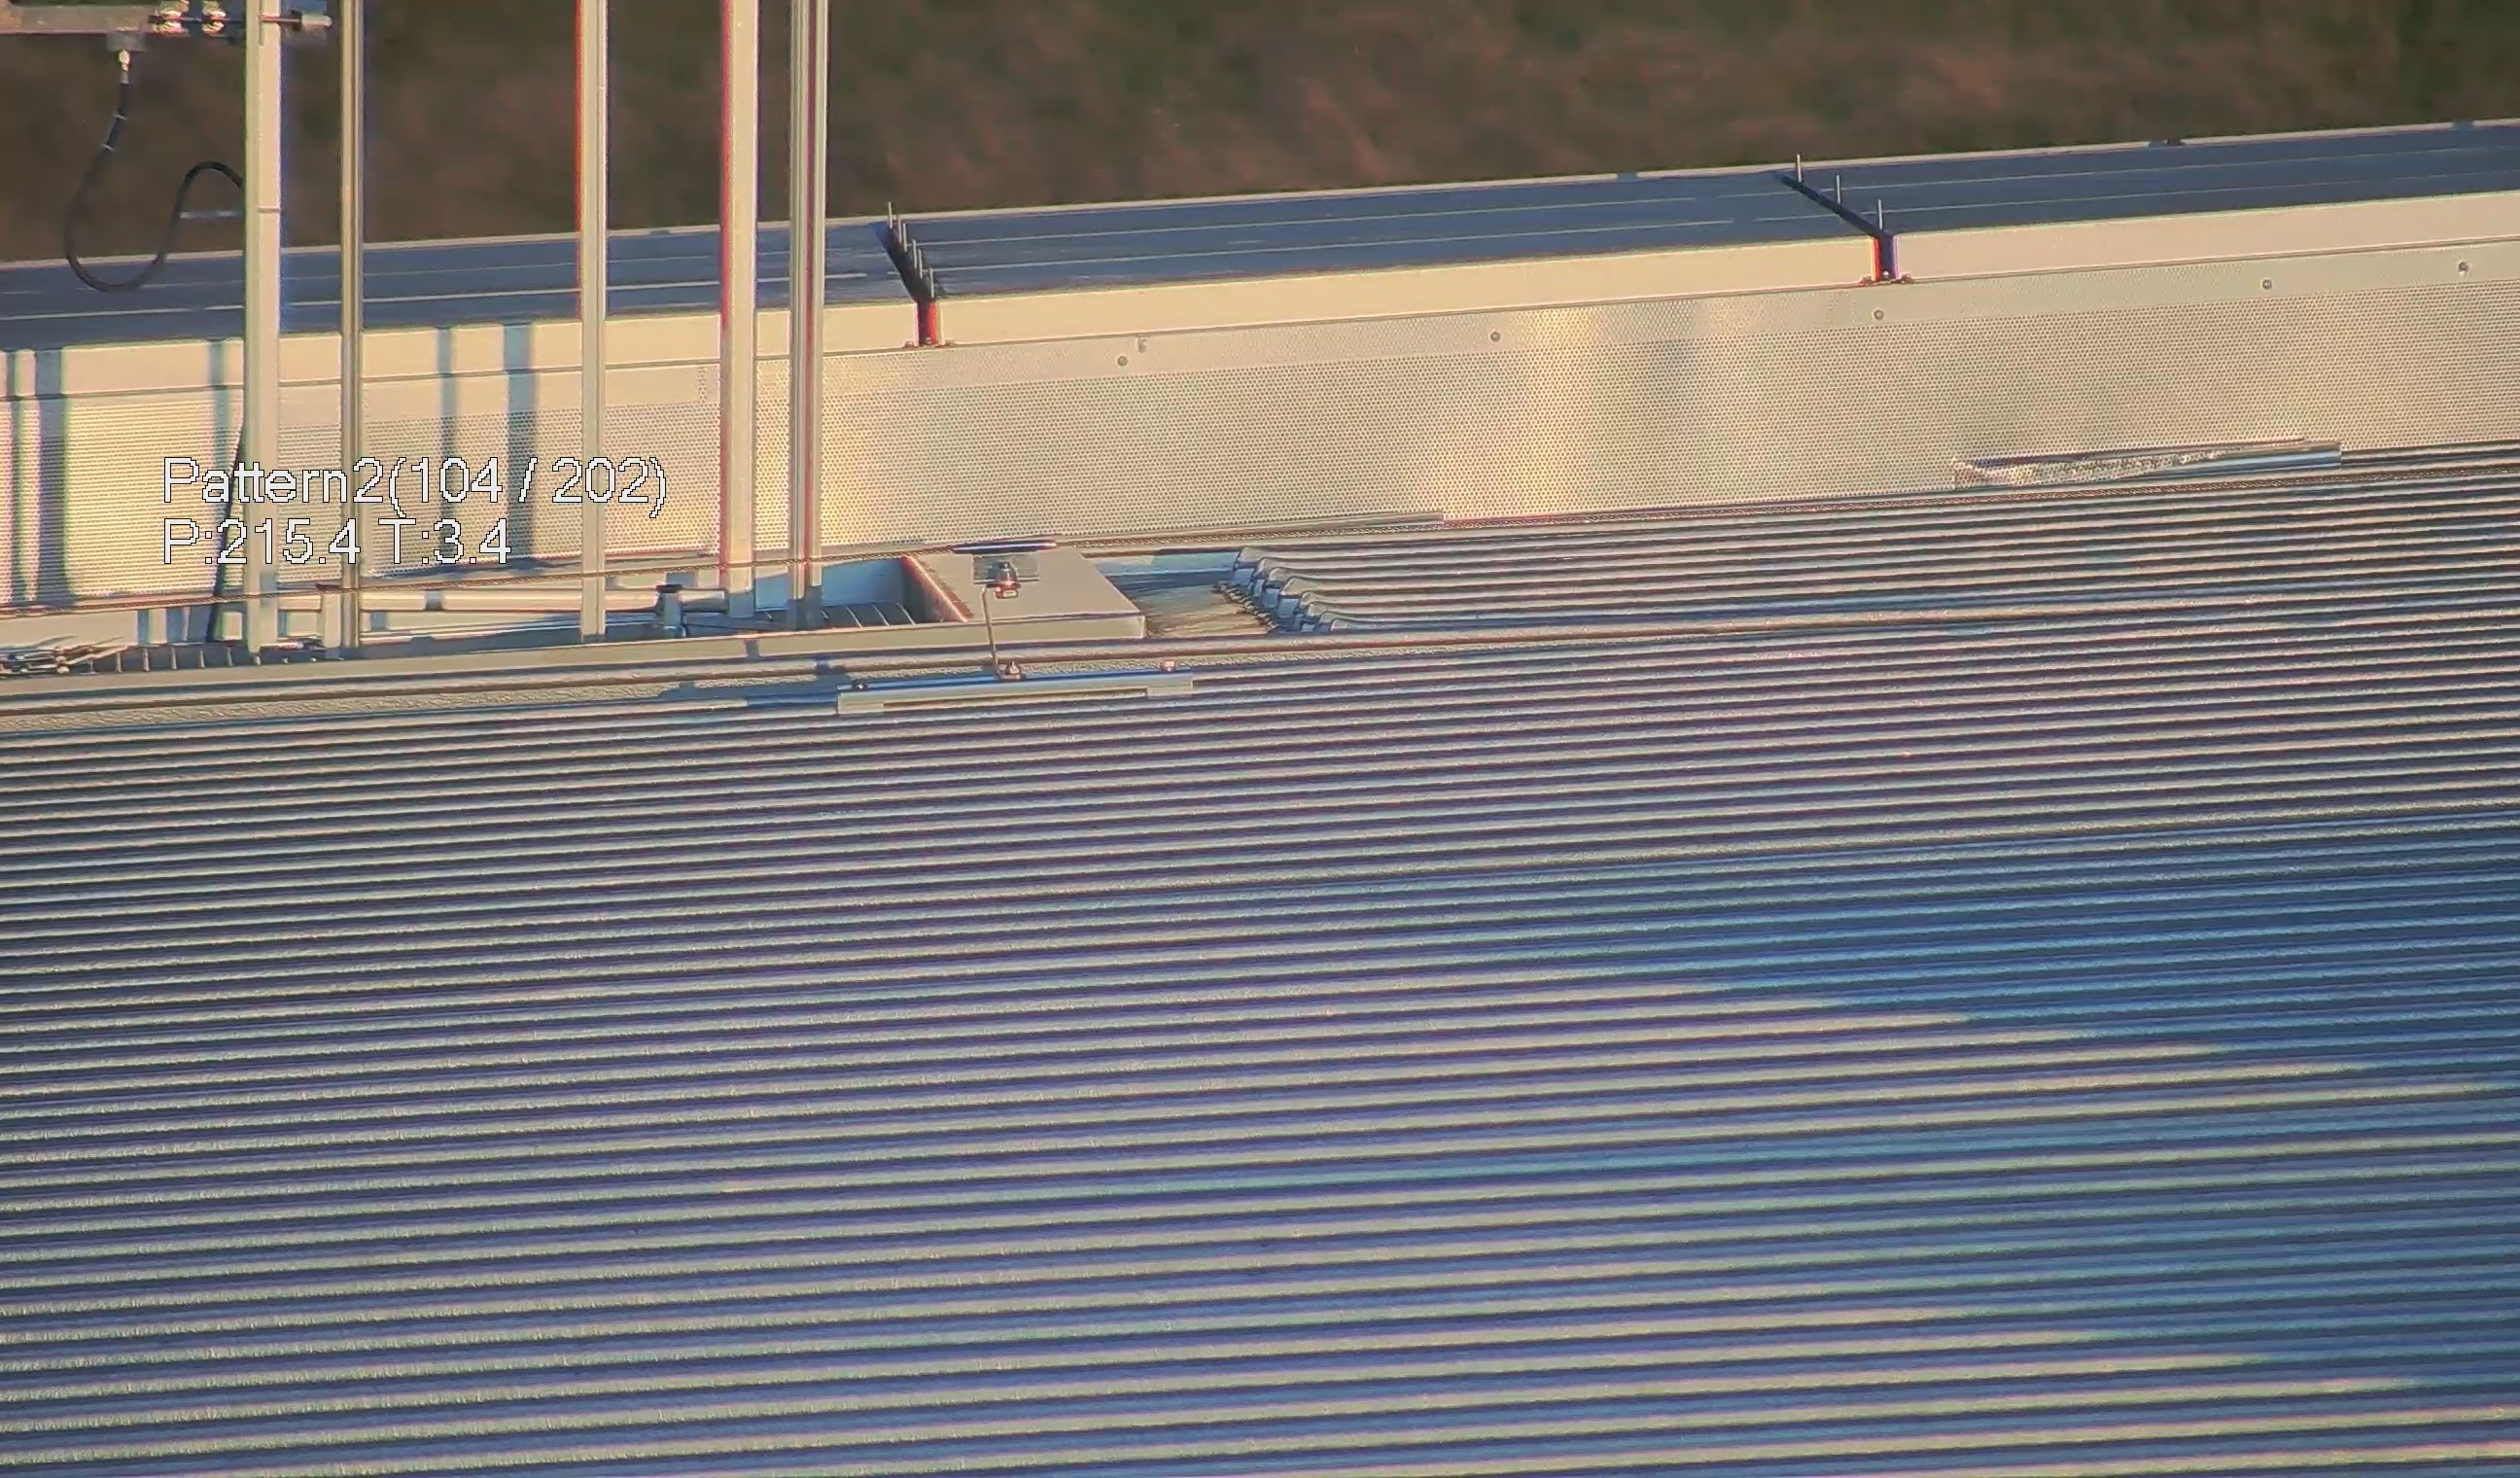Other: (862, 204, 953, 355)
